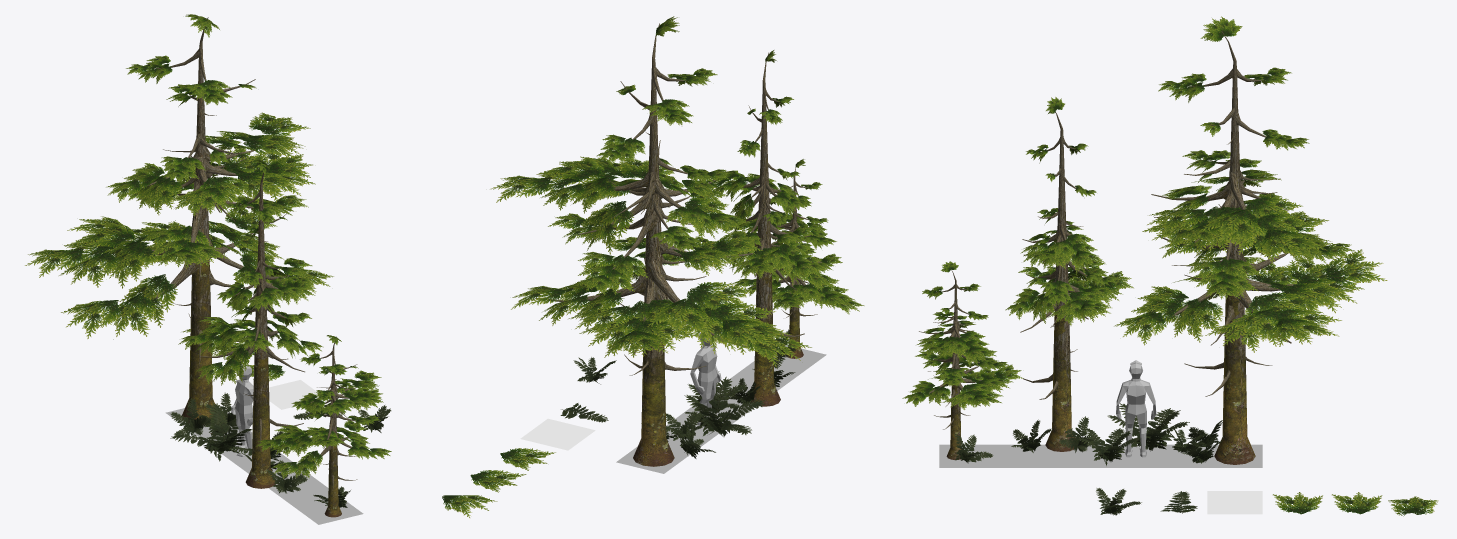
The model's file is free_spruce_tree.fbx_with_ferns.glb.
3 renders of one model, left to right at view 1: azimuth 30°, elevation 25°; view 2: azimuth 150°, elevation 25°; view 3: azimuth 270°, elevation 25°, orthographic. The views are drawn at different scales.
Parts seen in each view (by area): view 1: Big_Tree1_group7_pPlane11; view 2: Big_Tree1_group7_pPlane11; view 3: Big_Tree1_group7_pPlane11.
Part boxes in pixels (x1=…): Big_Tree1_group7_pPlane11: x1=25, y1=14, x2=391, y2=524; Big_Tree1_group7_pPlane11: x1=442, y1=16, x2=864, y2=517; Big_Tree1_group7_pPlane11: x1=902, y1=16, x2=1438, y2=516.
Bounding box in the file's own units: 6.45 × 8.88 × 9.9.
Materials: 6 (3 with a texture image).
